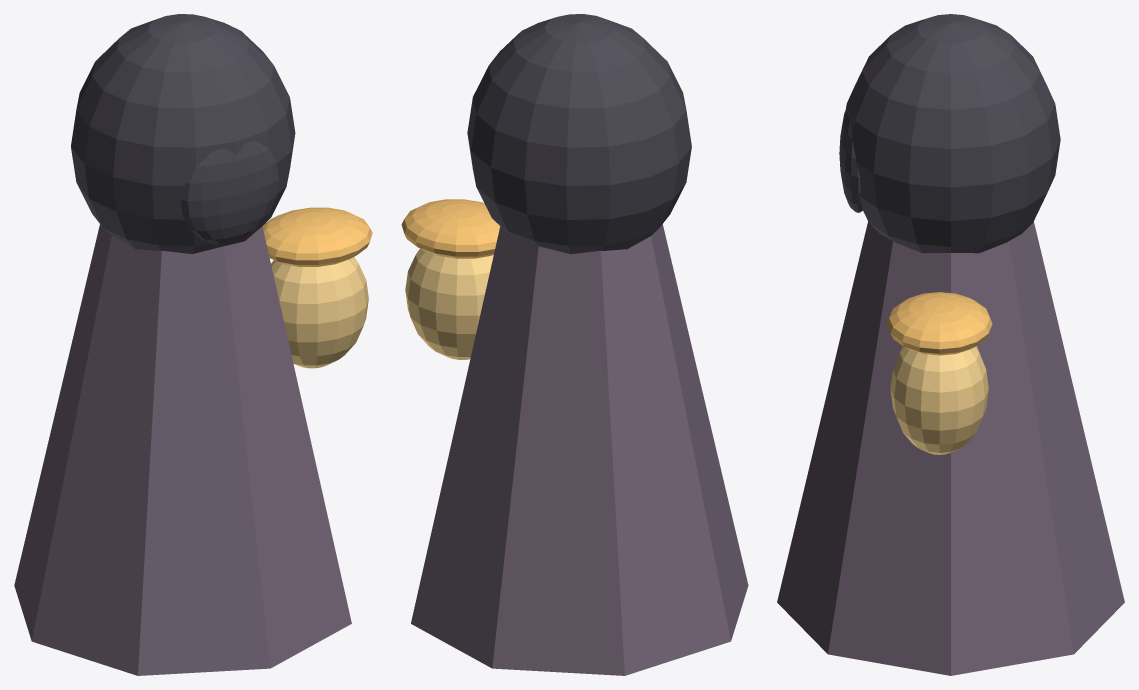
Rendered from dreamer.glb.
3 views of the same model, side by side, from view 1: azimuth 30°, elevation 25°; view 2: azimuth 150°, elevation 25°; view 3: azimuth 270°, elevation 25° (orthographic).
Visible parts, largest first — view 1: DreamerCloak, Hood, Lantern glow, Face shadow, Lantern cap; view 2: DreamerCloak, Hood, Lantern glow, Lantern cap; view 3: DreamerCloak, Hood, Lantern glow, Lantern cap, Face shadow.
Boxes of the visible parts, x1,y1,x2,y2 form: DreamerCloak: (14,224,351,675); Hood: (71,14,295,253); Lantern glow: (271,257,368,368); Face shadow: (180,141,278,244); Lantern cap: (262,207,372,266); DreamerCloak: (411,224,748,675); Hood: (467,14,691,254); Lantern glow: (405,248,493,359); Lantern cap: (401,199,500,258); DreamerCloak: (777,221,1124,675); Hood: (845,14,1060,253); Lantern glow: (890,346,988,454); Lantern cap: (886,292,992,355); Face shadow: (839,110,862,212).
Bounding box in the file's own units: 1 × 1.69 × 0.92.
